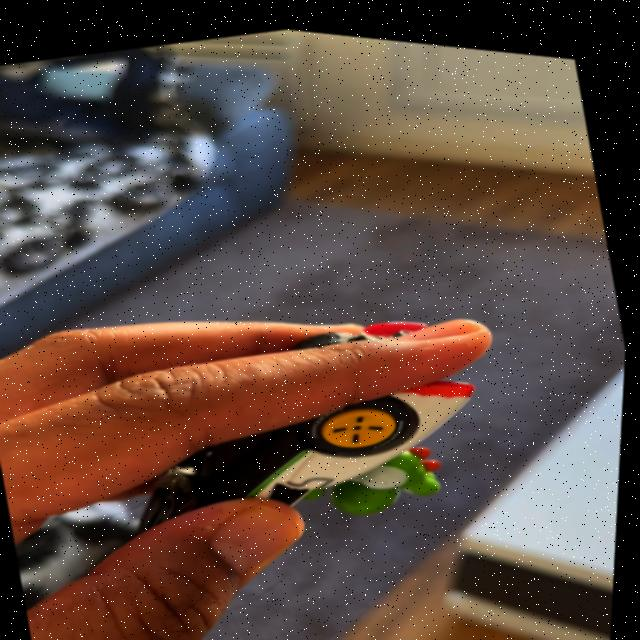yoshi: (219, 342, 478, 564)
